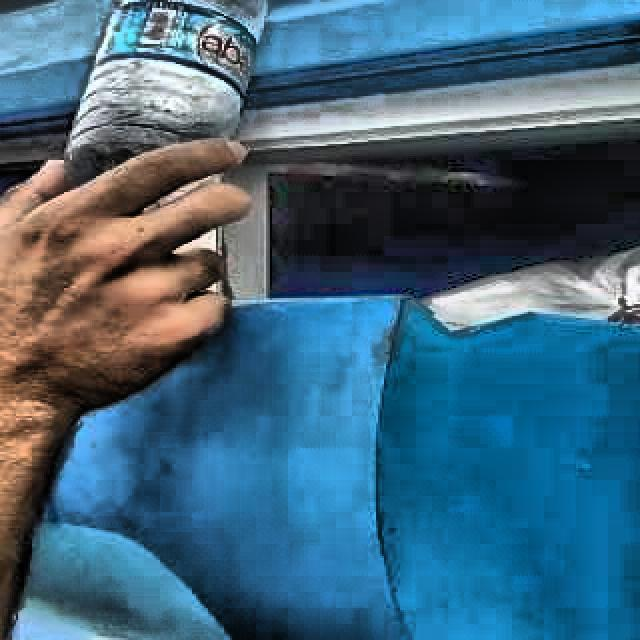plastic: (64, 0, 266, 180)
